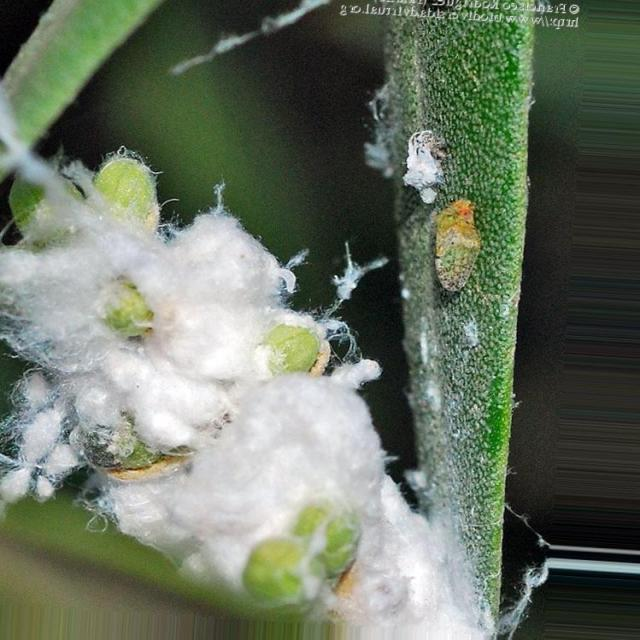Psyllid: (0, 142, 483, 639), (403, 130, 447, 203)
